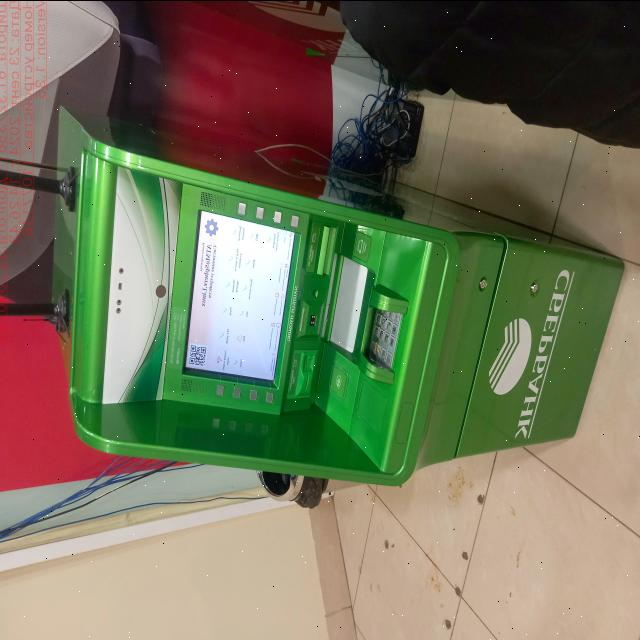bank: (58, 104, 616, 478)
